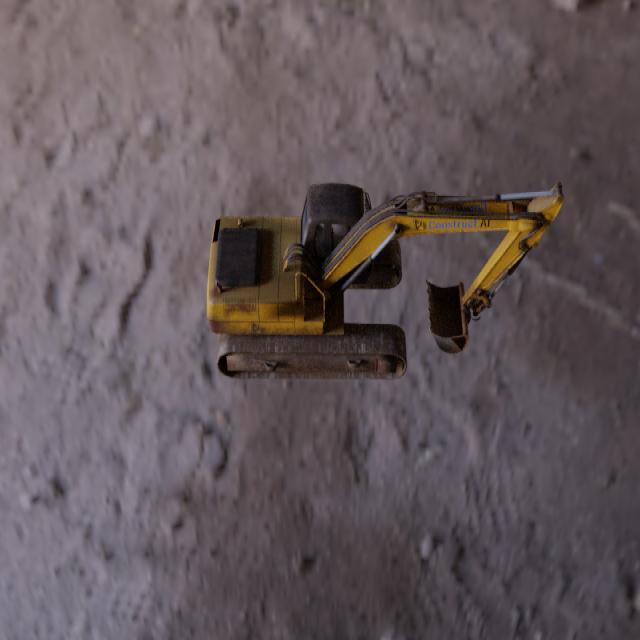excavator: (206, 181, 564, 379)
